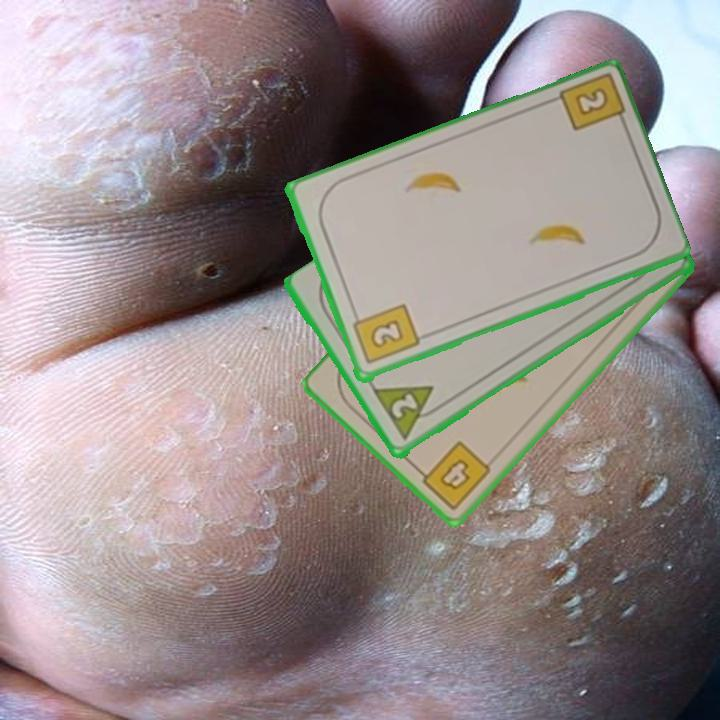2b: (348, 301, 422, 368), (553, 73, 628, 135)
2p: (370, 381, 448, 444)
4b: (412, 437, 494, 514)
